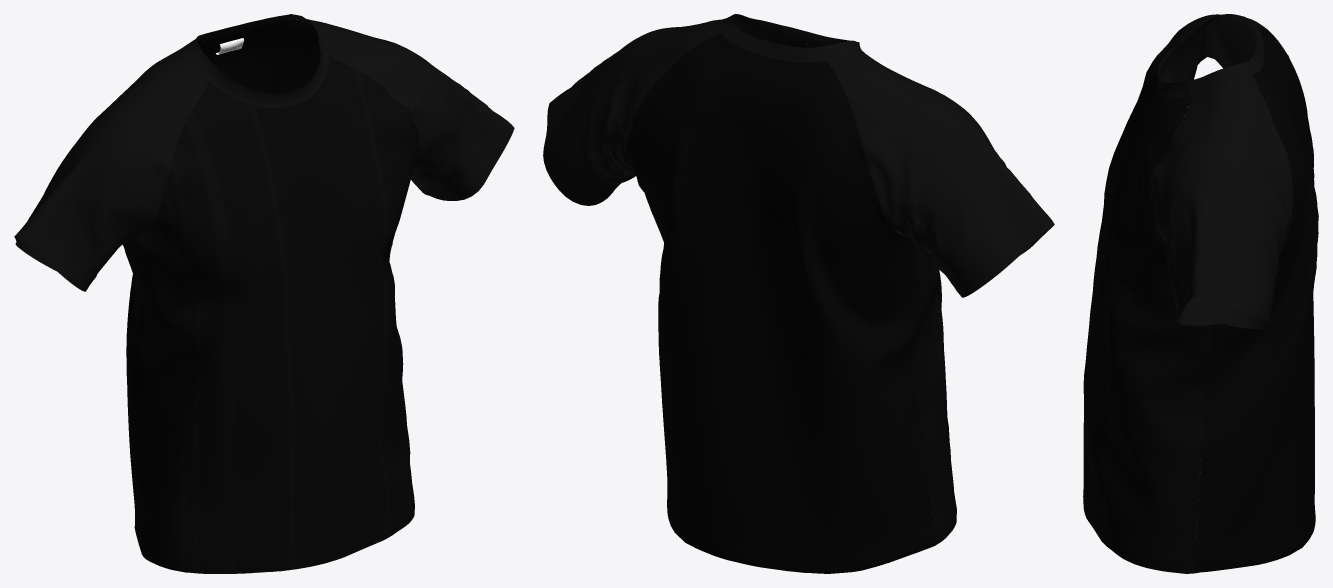
File: sport-tee.glb
3 renders of one model, left to right at view 1: azimuth 30°, elevation 25°; view 2: azimuth 150°, elevation 25°; view 3: azimuth 270°, elevation 25°, orthographic. The views are drawn at different scales.
Parts seen in each view (by area): view 1: Body_Front_1_Node.001_72, Sleeves_3_Node.001_77, Sleeves_2_Node.001_76, Body_Back_Node.001_71, Pattern_233998_Node.001_75; view 2: Body_Back_Node.001_71, Sleeves_3_Node.001_77, Sleeves_2_Node.001_76, Body_Front_1_Node.001_72, Pattern_233998_Node.001_75; view 3: Body_Front_1_Node.001_72, Body_Back_Node.001_71, Sleeves_2_Node.001_76, Sleeves_3_Node.001_77, Pattern_233998_Node.001_75.
Boxes of the visible parts, x1,y1,x2,y2 form: Body_Front_1_Node.001_72: (136,55,420,573); Sleeves_3_Node.001_77: (14,45,209,291); Sleeves_2_Node.001_76: (294,18,514,200); Body_Back_Node.001_71: (122,19,320,556); Pattern_233998_Node.001_75: (184,14,329,108); Body_Back_Node.001_71: (625,33,936,573); Sleeves_3_Node.001_77: (827,52,1054,297); Sleeves_2_Node.001_76: (543,19,743,205); Body_Front_1_Node.001_72: (739,26,956,544); Pattern_233998_Node.001_75: (717,14,864,62); Body_Front_1_Node.001_72: (1083,43,1212,573); Body_Back_Node.001_71: (1193,25,1318,573); Sleeves_2_Node.001_76: (1150,74,1293,329); Sleeves_3_Node.001_77: (1153,14,1269,82); Pattern_233998_Node.001_75: (1157,14,1263,97).
Size of the model in its own units: 0.6858 by 0.65 by 0.2894.
Materials: 5 (2 with a texture image).
